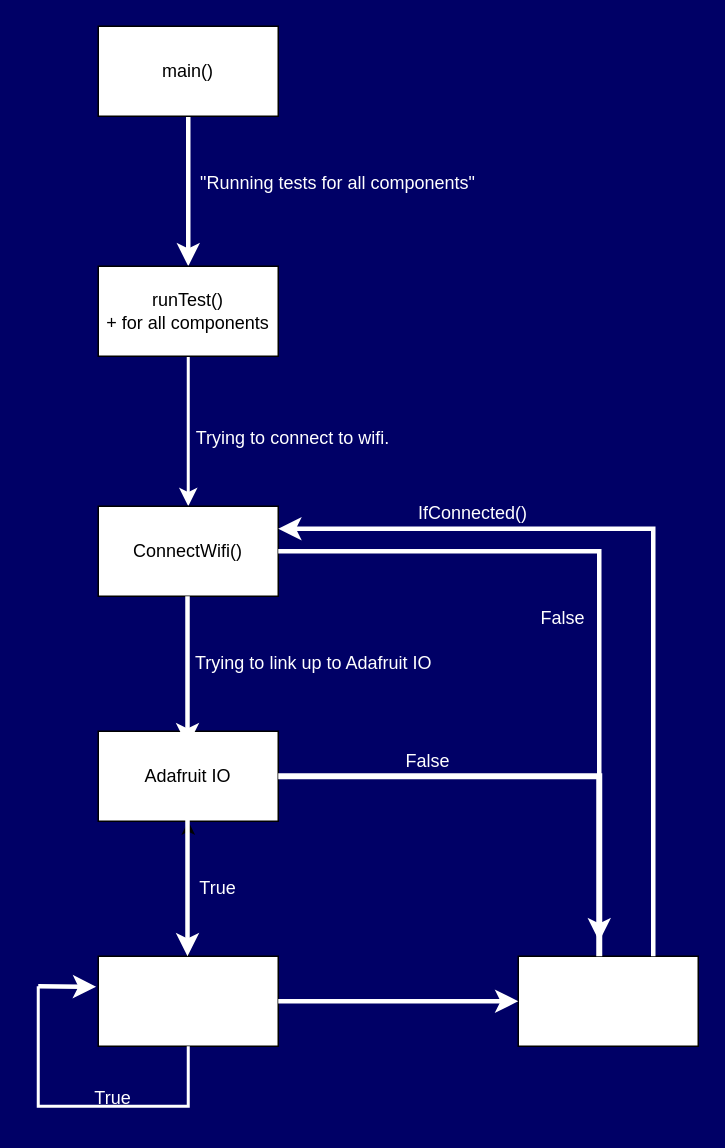
Some shapes in this 725 by 1148 pixel diagram are drawn without their labels. Each missing label, with the box of its shape:
Offline Mode: (517, 955, 698, 1046)
Online Mode: (97, 955, 278, 1046)
